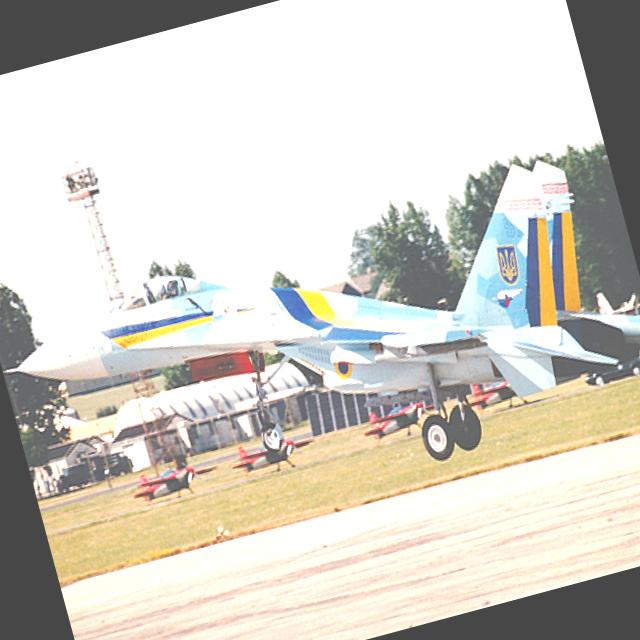Vehicle: (50, 443, 136, 495), (582, 353, 640, 391)
